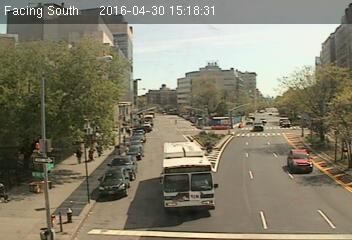neg: (289, 148, 307, 172), (318, 110, 331, 128), (62, 205, 74, 221), (222, 121, 234, 136), (33, 174, 44, 190), (285, 115, 296, 128), (206, 139, 216, 151), (174, 115, 182, 126), (234, 75, 241, 85)
pos: (71, 145, 87, 166)
